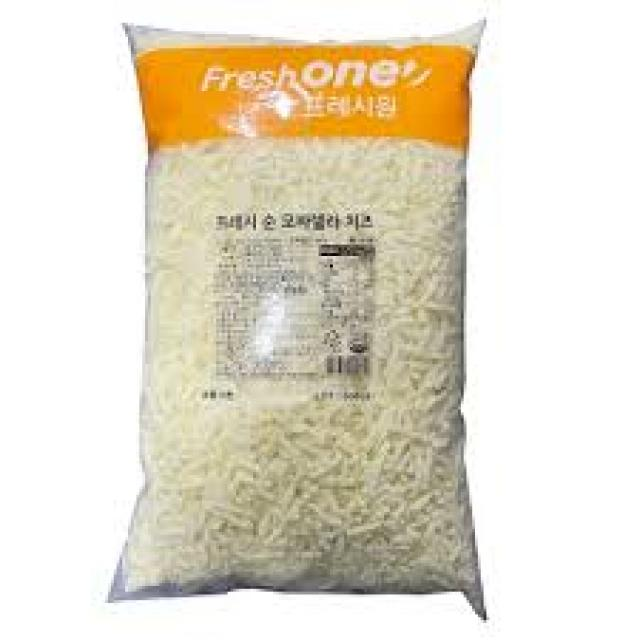Cheese: (119, 18, 472, 601)
